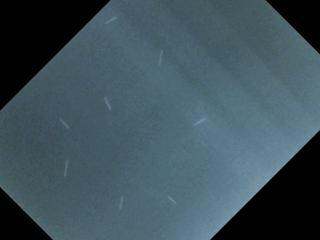scratch: (102, 13, 120, 27), (58, 116, 70, 129), (193, 117, 207, 127), (63, 160, 70, 177), (104, 96, 112, 110), (167, 195, 177, 205), (158, 49, 164, 65), (118, 196, 125, 209)
